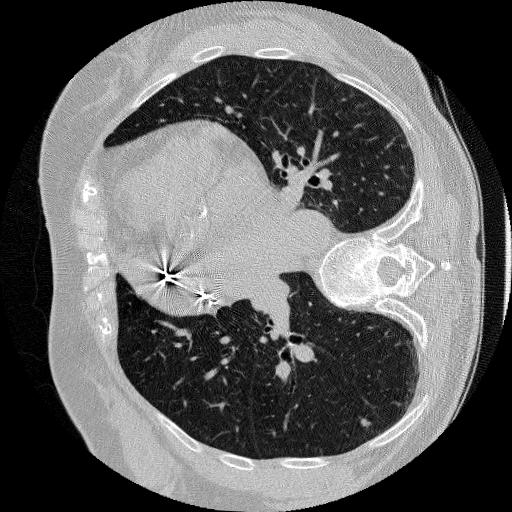nodule: (358, 417, 372, 431)
